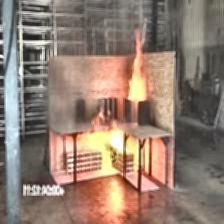fire: (103, 32, 163, 109), (82, 121, 136, 172)
